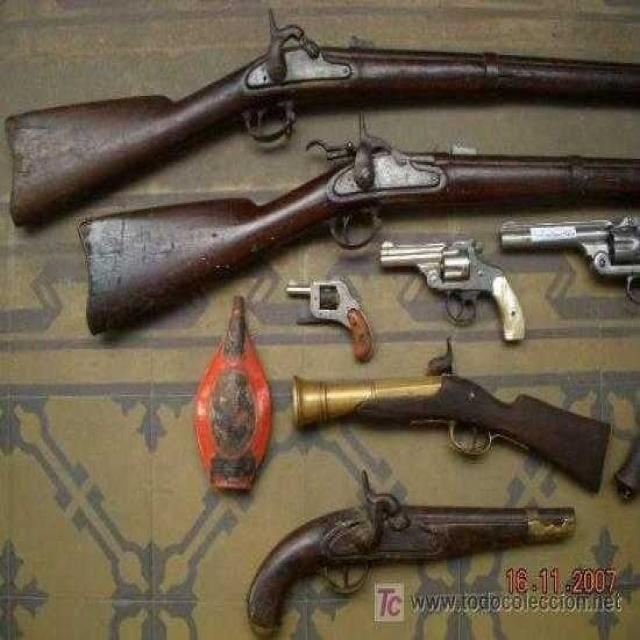heavyweapon: (79, 142, 640, 344), (1, 26, 640, 202)
